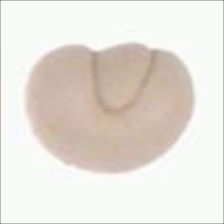L5: (90, 41, 159, 115)
L6: (21, 42, 197, 175)
